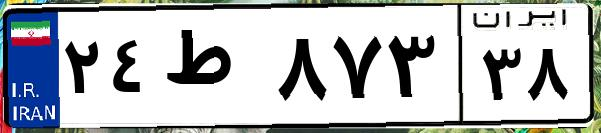2: (57, 26, 110, 100)
3: (385, 28, 445, 110), (475, 38, 525, 113)
4: (110, 28, 158, 98)
7: (330, 28, 385, 110)
8: (270, 28, 330, 110), (525, 38, 570, 115)
ط: (158, 20, 270, 120)
